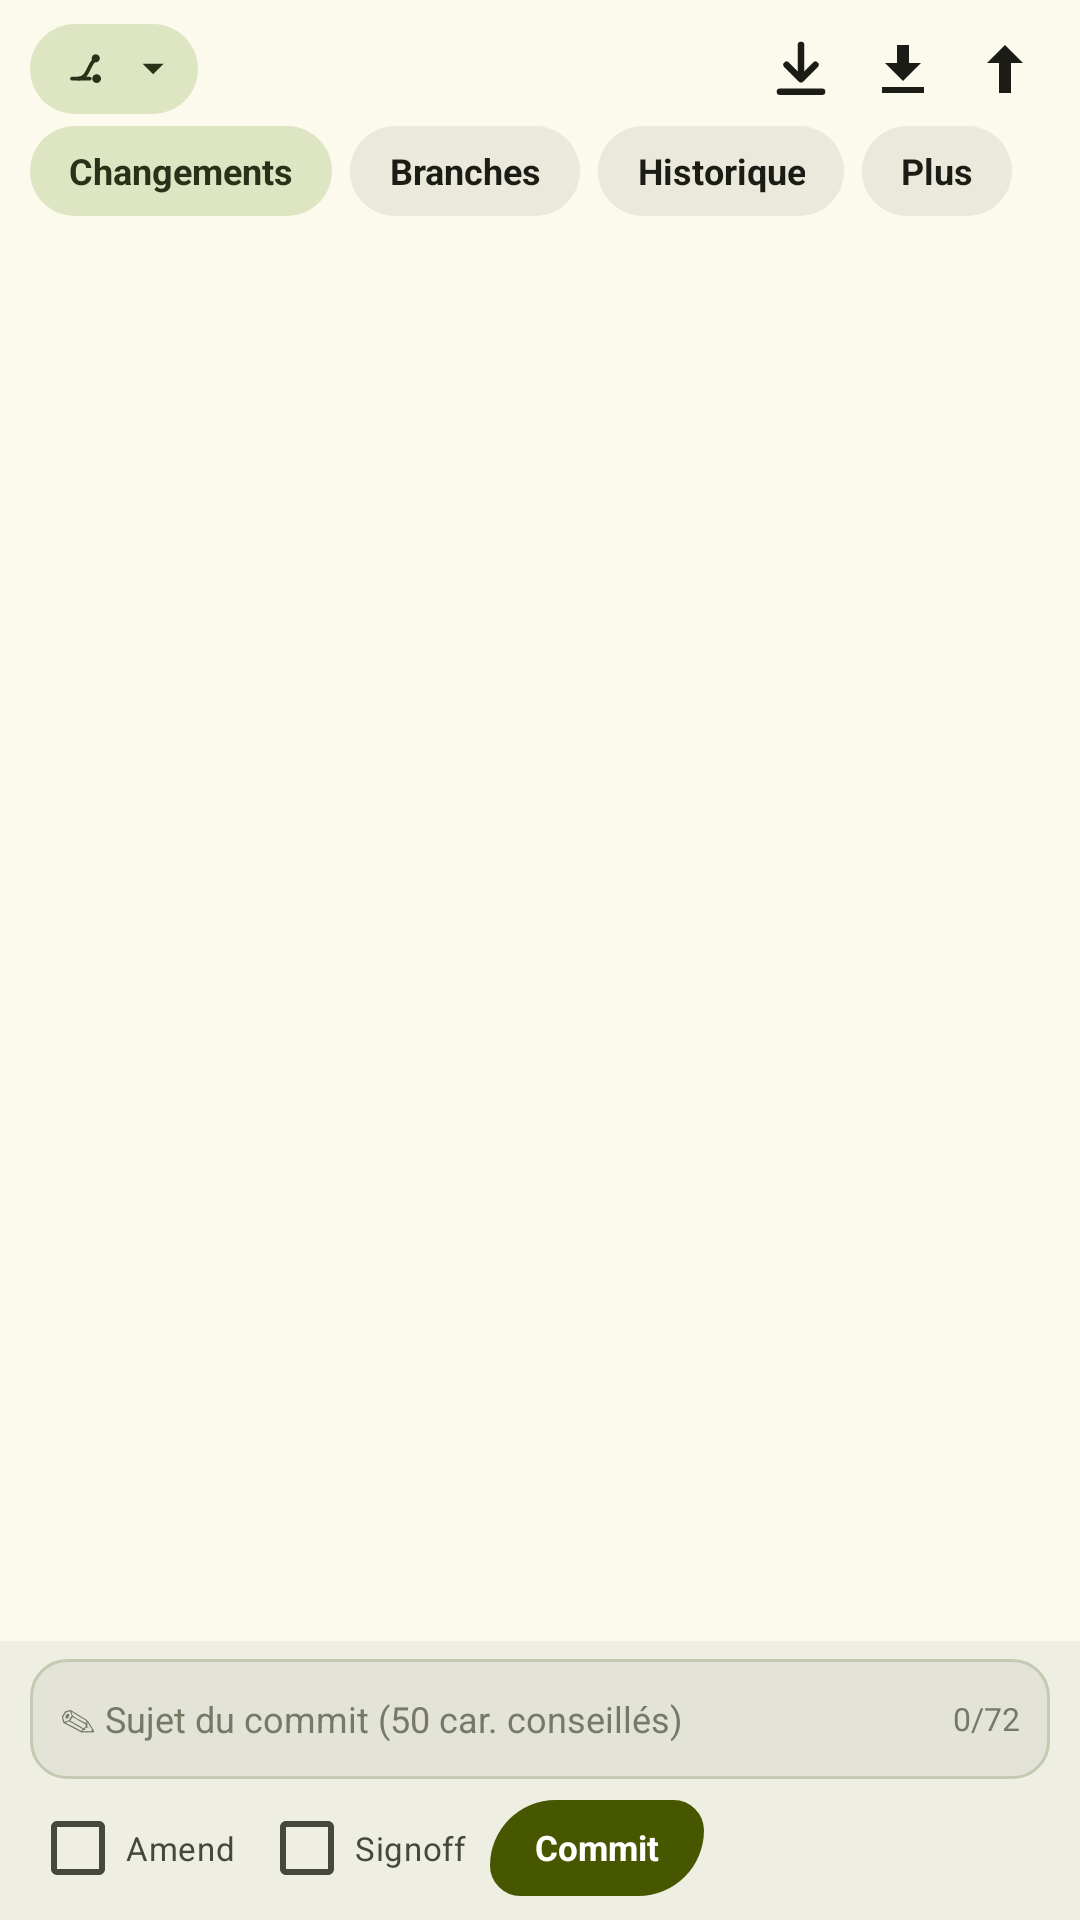

Icons on this 1080x1920 Android screen, each with its box as (x1, y1, x2, y2):
branche: (70, 54, 101, 83)
Fetch (récupérer): (776, 41, 826, 95)
Pousser (push): (987, 45, 1023, 93)
Tirer (pull): (882, 45, 924, 93)
